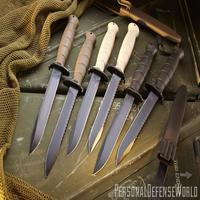knife: (27, 12, 172, 180)
